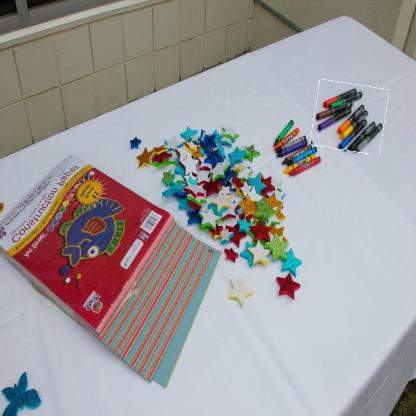Pen: (312, 81, 387, 153)
